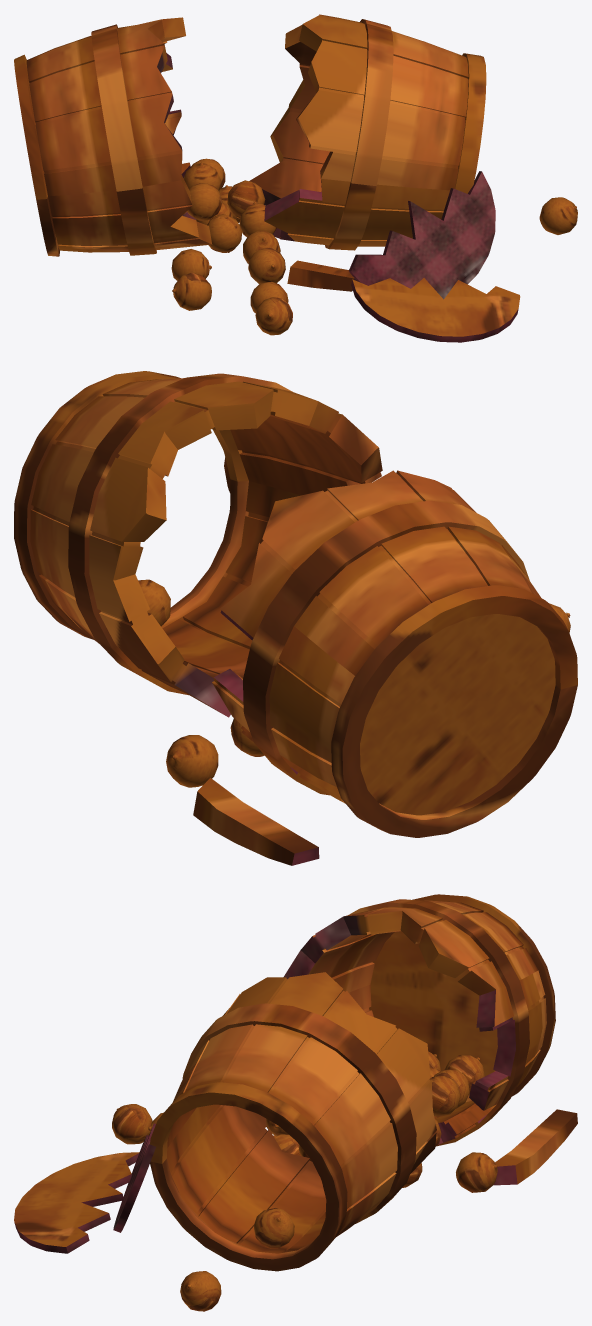
The model's file is barrel of broken fruit_9.fbx.
3 views of the same model, one above another, from view 1: azimuth 30°, elevation 25°; view 2: azimuth 150°, elevation 25°; view 3: azimuth 270°, elevation 25° (orthographic). The views are drawn at different scales.
Visible parts, largest first — view 1: Circle.044, Circle.045, Plane.1833, Plane.1841, Plane.1821, Plane.373, Plane.1827, Plane.1838, Plane.1825, Plane.1828, Plane.1839, Plane.1840 (+2 smaller); view 2: Circle.044, Plane.1826, Plane.1836; view 3: Circle.044, Circle.045, Plane.1826, Plane.1841, Plane.1836, Plane.1821, Plane.1831, Plane.1829.
Boxes of the visible parts, x1,y1,x2,y2 form: Circle.044: [14, 14, 486, 291]; Circle.045: [349, 171, 520, 342]; Plane.1833: [172, 272, 211, 310]; Plane.1841: [539, 197, 577, 234]; Plane.1821: [255, 297, 292, 335]; Plane.373: [248, 248, 285, 283]; Plane.1827: [207, 214, 241, 252]; Plane.1838: [187, 183, 222, 220]; Plane.1825: [227, 180, 265, 219]; Plane.1828: [171, 249, 211, 280]; Plane.1839: [239, 202, 276, 237]; Plane.1840: [183, 162, 221, 190]; Circle.044: [14, 371, 577, 865]; Plane.1826: [166, 735, 218, 787]; Plane.1836: [138, 579, 170, 626]; Circle.044: [150, 894, 577, 1271]; Circle.045: [14, 1123, 155, 1253]; Plane.1826: [456, 1152, 497, 1192]; Plane.1841: [180, 1271, 221, 1311]; Plane.1836: [254, 1208, 294, 1248]; Plane.1821: [112, 1104, 152, 1144]; Plane.1831: [429, 1076, 460, 1117]; Plane.1829: [444, 1055, 484, 1094].
Bounding box in the file's own units: 82.02 × 37.01 × 79.57.
